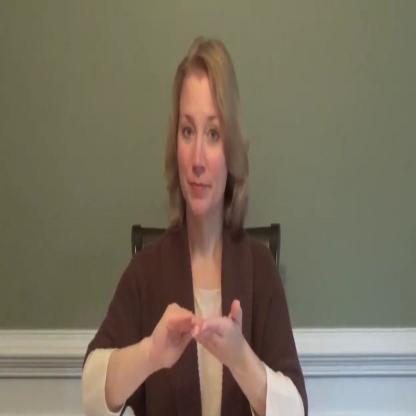ExcuseMe: (83, 34, 309, 416)
